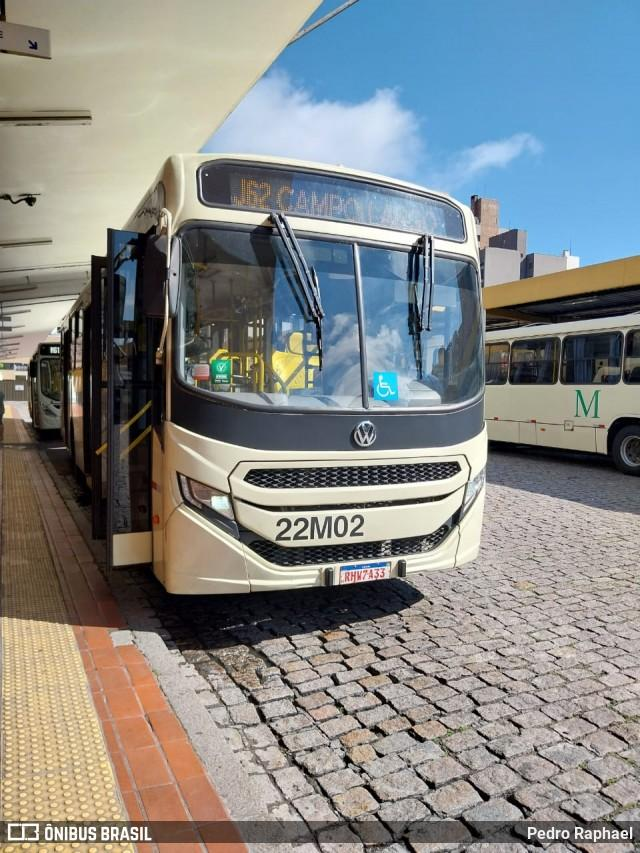CAMPO LARGO: (268, 172, 446, 242)
